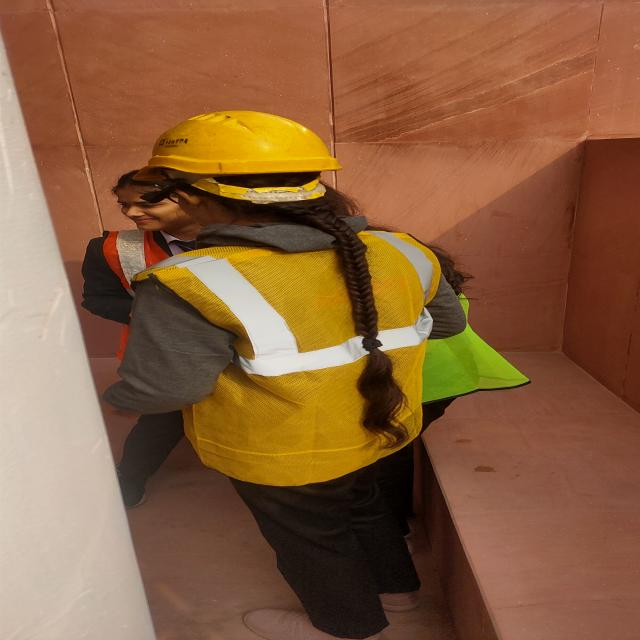safe: (126, 107, 447, 640)
